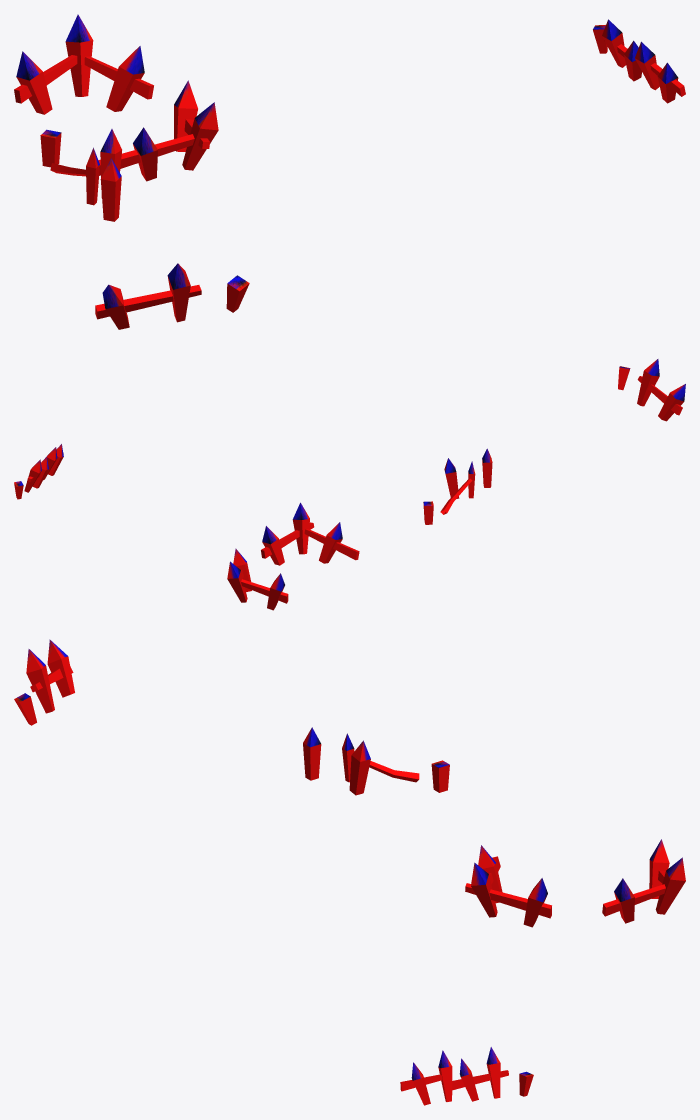
The model's file is wood039.FBX.
The picture shows the model from 3 angles, top to bottom: view 1: azimuth 30°, elevation 25°; view 2: azimuth 150°, elevation 25°; view 3: azimuth 270°, elevation 25°; orthographic projection. The views are drawn at different scales.
Visible parts, largest first — view 1: Object005; view 2: Object005; view 3: Object005.
Part boxes in pixels (bbox=[...]): Object005: bbox=[14, 14, 685, 329]; Object005: bbox=[14, 359, 685, 610]; Object005: bbox=[14, 639, 685, 1105].
Size of the model in its own units: 1316 by 301 by 1153.
